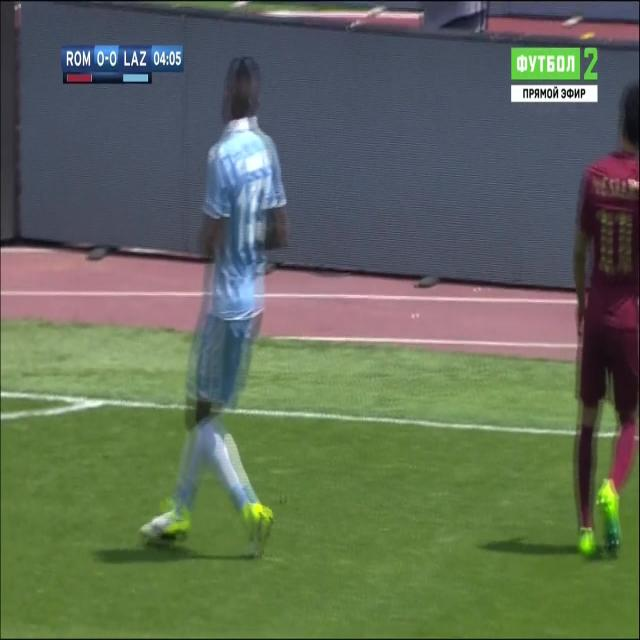Player: (138, 51, 292, 554), (569, 73, 640, 562)
